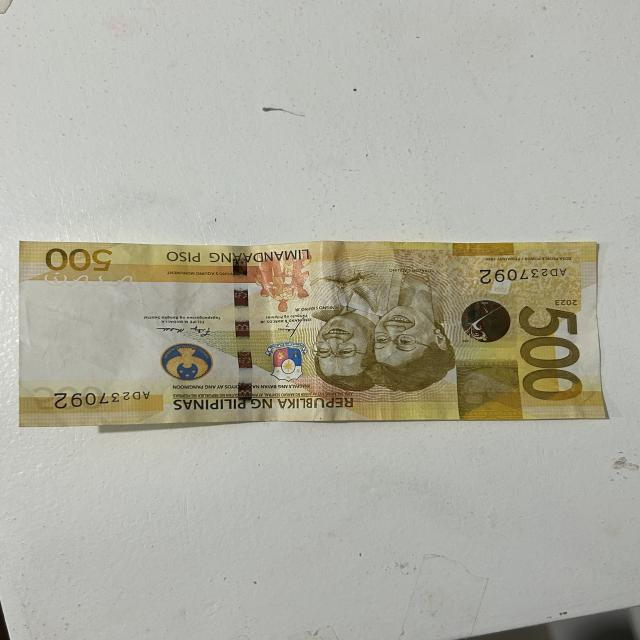concealed_value: (457, 361, 520, 416)
optically_variable_device: (462, 301, 511, 342)
security_thread: (227, 249, 256, 406)
see_through_mark: (30, 269, 148, 284)
serial_number: (469, 257, 576, 286), (49, 390, 150, 408)
value: (516, 303, 584, 397)
